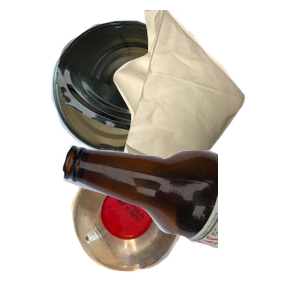glass: (60, 142, 300, 300)
metal: (49, 18, 229, 164)
plastic: (69, 161, 245, 300)
trash: (111, 10, 300, 190)
